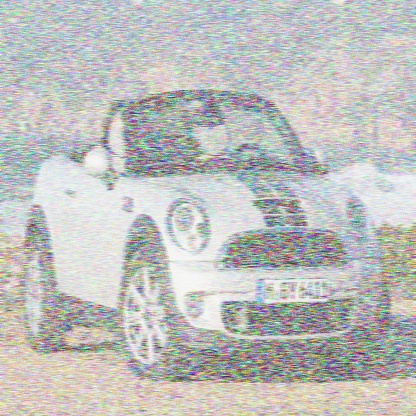Vehicle: (23, 91, 392, 382)
